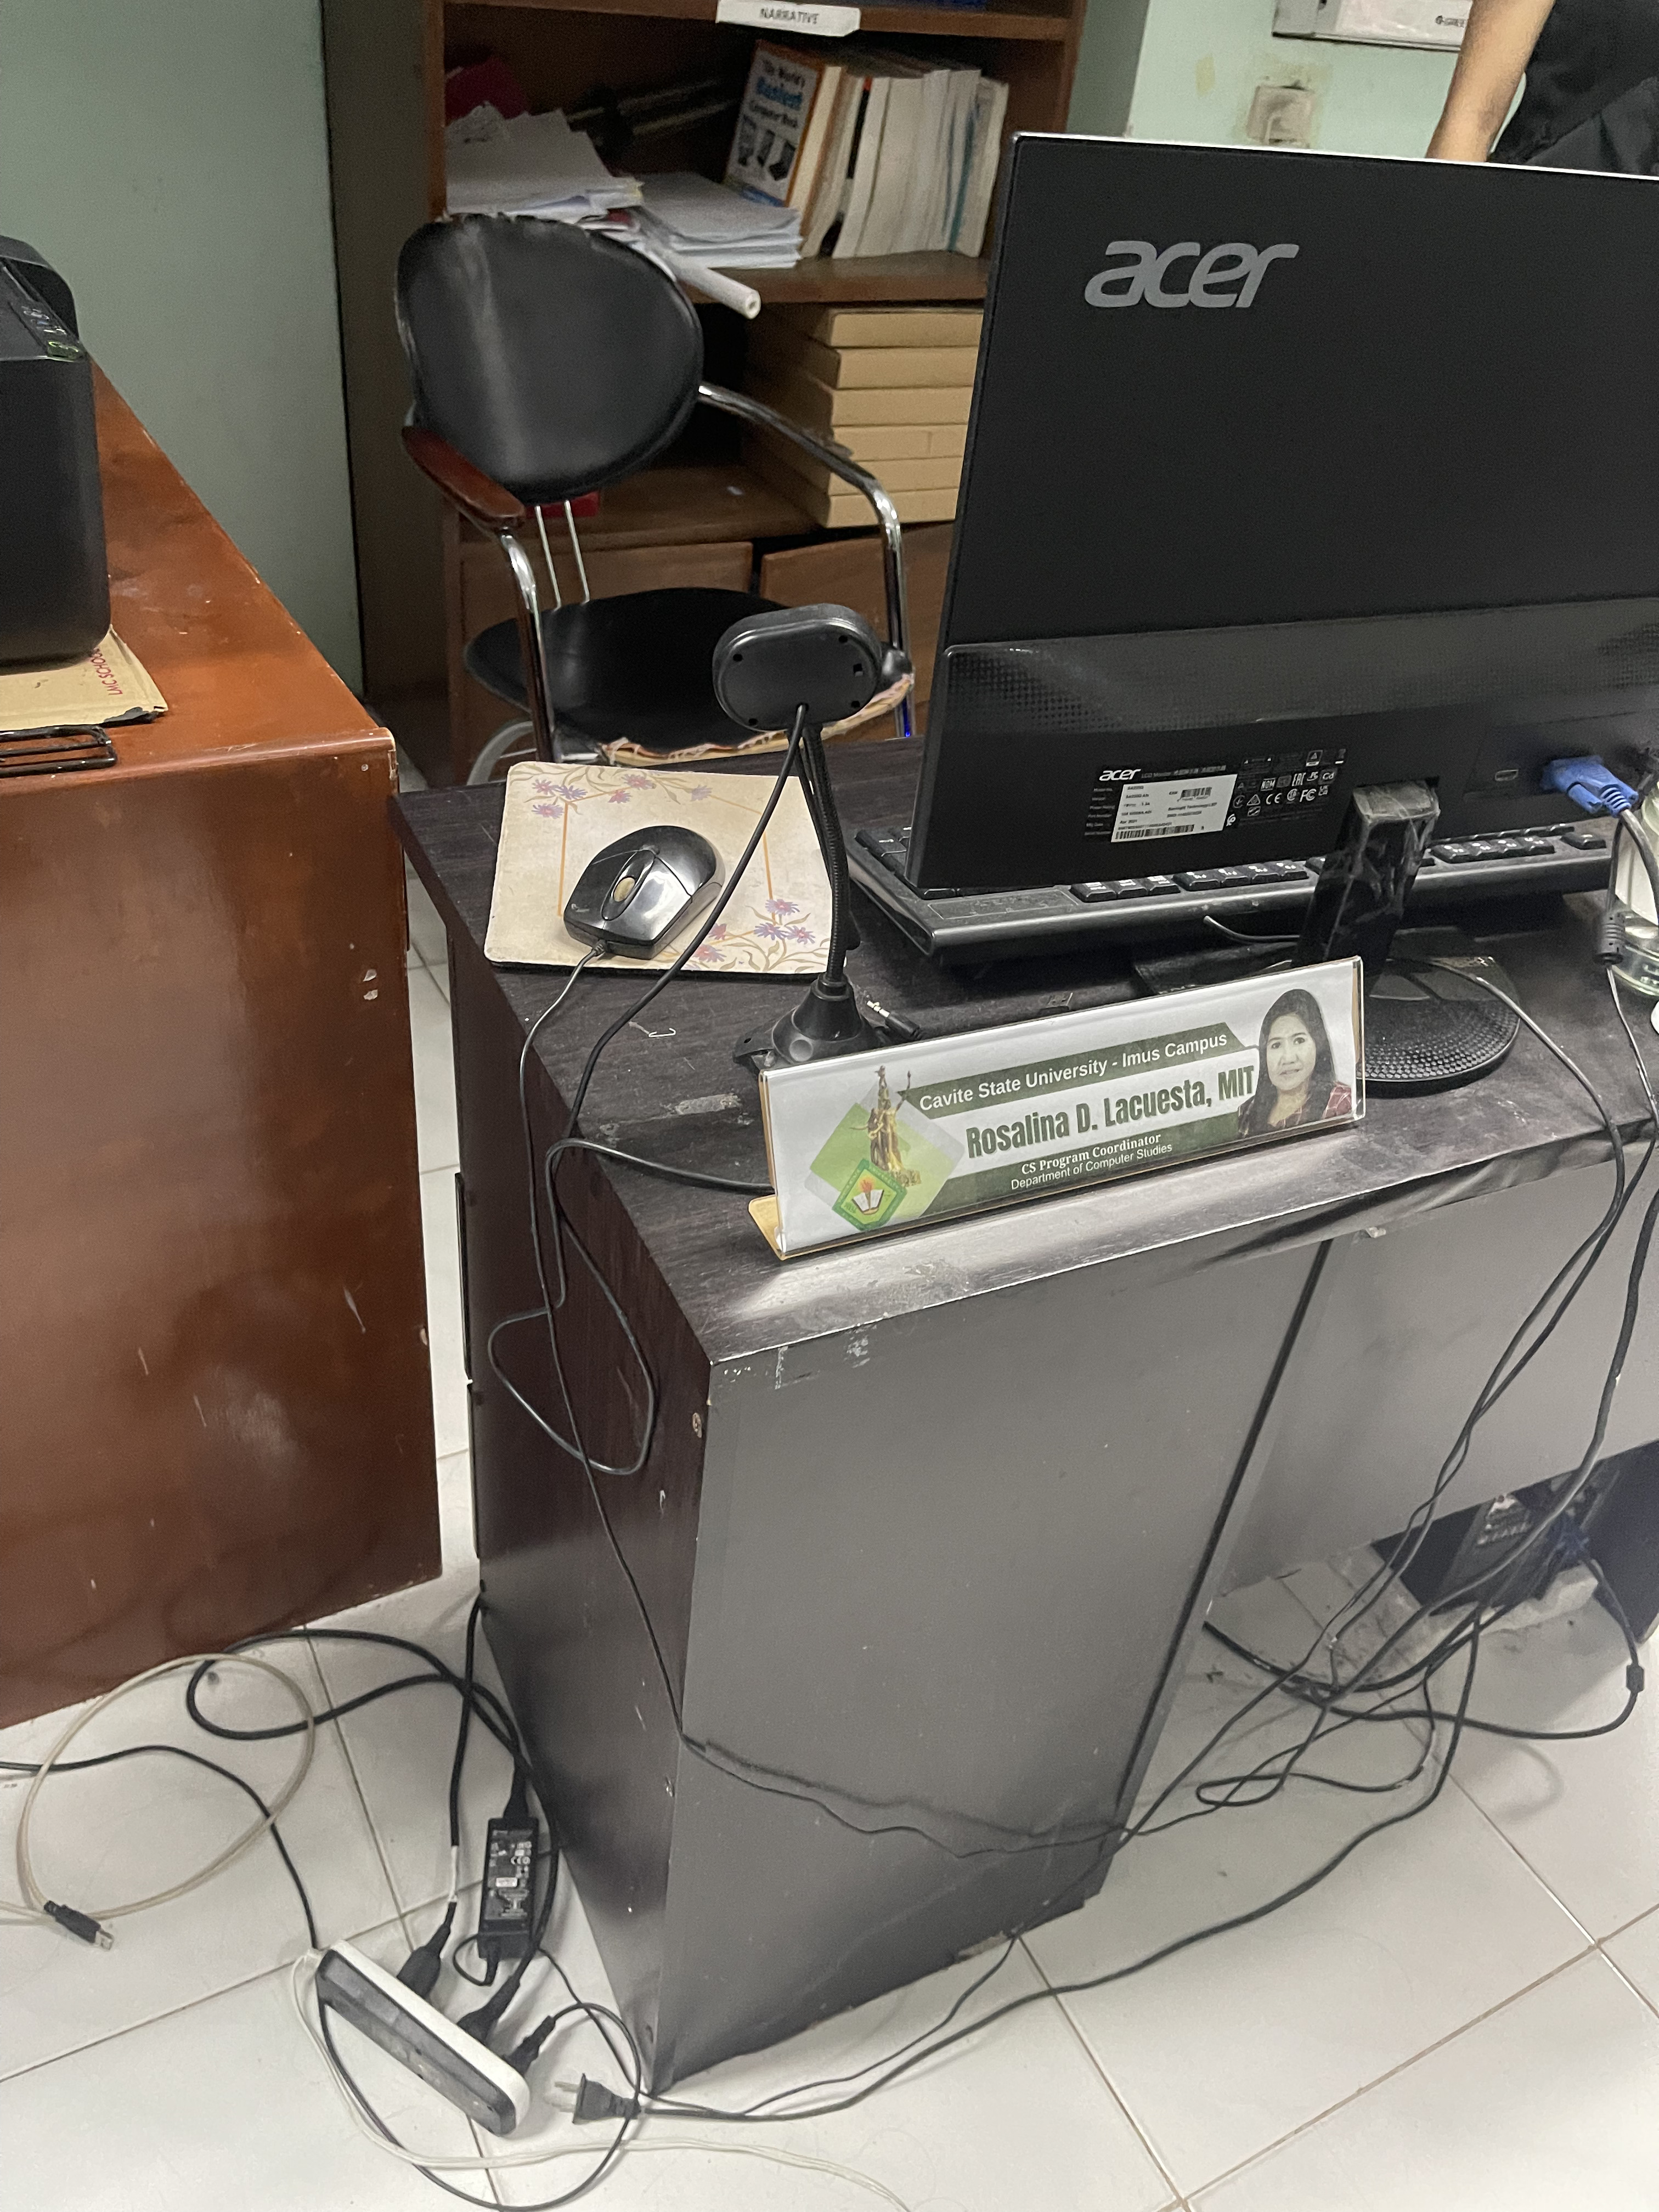table1: (376, 711, 1659, 2080)
